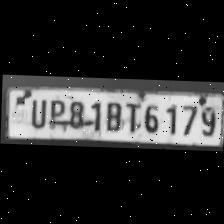1: (161, 100, 179, 134), (85, 96, 102, 130)
6: (139, 99, 161, 132)
7: (177, 100, 197, 136)
8: (64, 95, 86, 128)
9: (197, 100, 217, 136)
B: (100, 97, 122, 131), (45, 94, 65, 128)
T: (122, 98, 140, 132)
U: (24, 94, 46, 128)
